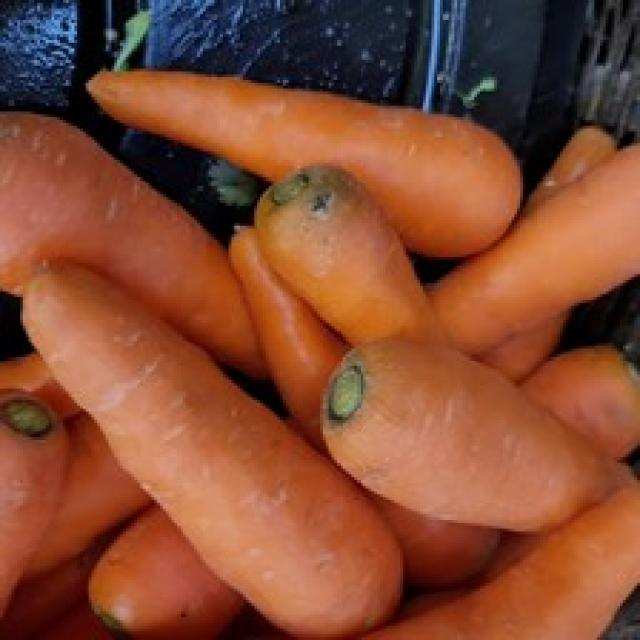Fresh_Carrot: (33, 268, 406, 630), (100, 63, 546, 264), (83, 62, 509, 261), (337, 324, 640, 545), (210, 150, 464, 362)
